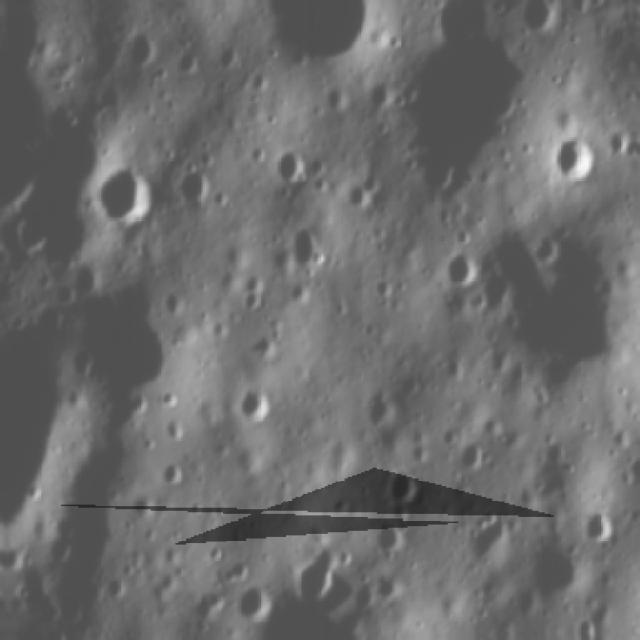crater: (358, 13, 556, 209), (459, 208, 638, 423), (62, 260, 209, 426), (248, 0, 379, 77), (509, 536, 597, 622), (89, 156, 160, 233), (282, 537, 349, 612), (454, 498, 520, 572), (221, 377, 282, 434), (172, 151, 222, 211), (550, 132, 601, 190), (510, 0, 572, 46), (266, 138, 316, 193), (382, 458, 429, 514), (282, 214, 327, 272), (436, 244, 481, 298), (361, 387, 404, 441), (366, 514, 414, 561), (232, 579, 276, 630), (522, 226, 566, 274), (120, 26, 162, 72), (579, 508, 624, 548), (365, 570, 406, 612), (96, 569, 130, 613), (170, 42, 204, 80), (156, 459, 192, 493), (130, 494, 158, 528), (567, 610, 601, 633)
